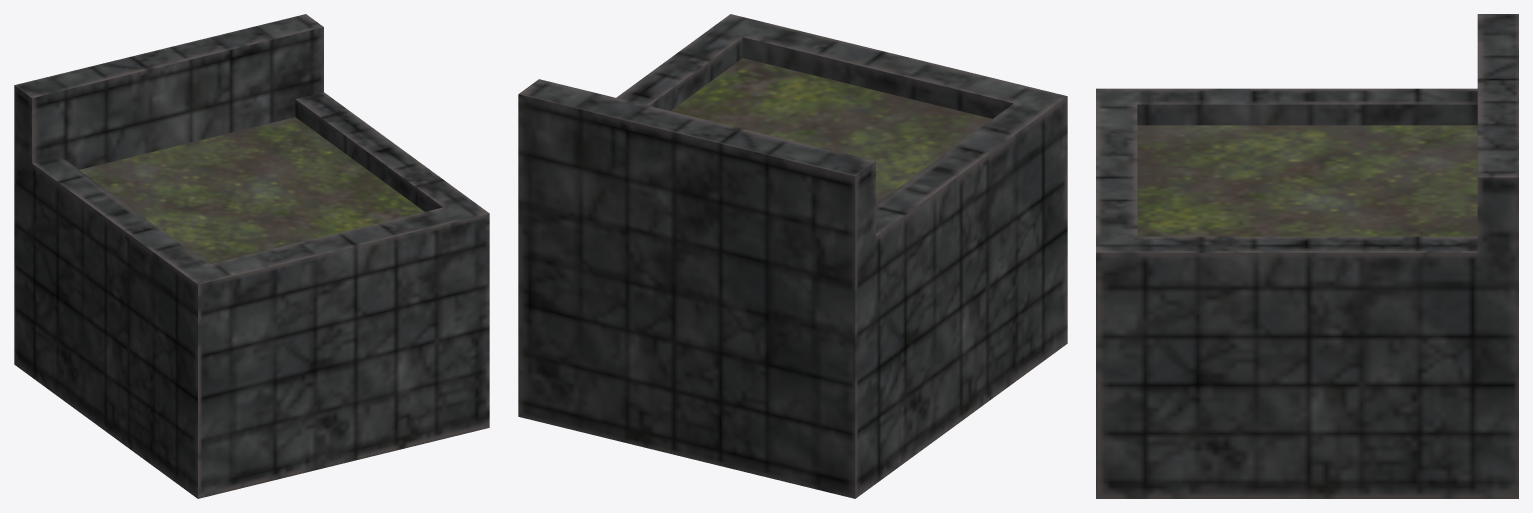
Rendered from Rectangular Headstone.fbx.
The picture shows the model from 3 angles, left to right: view 1: azimuth 30°, elevation 25°; view 2: azimuth 150°, elevation 25°; view 3: azimuth 270°, elevation 25°; orthographic projection. The views are drawn at different scales.
Parts seen in each view (by area): view 1: Cube.001; view 2: Cube.001; view 3: Cube.001.
Part boxes in pixels (x1,y1,x2,y2): Cube.001: (14,14,489,498); Cube.001: (518,14,1067,498); Cube.001: (1096,14,1518,498).
Bounding box in the file's own units: 200 × 183 × 218.
